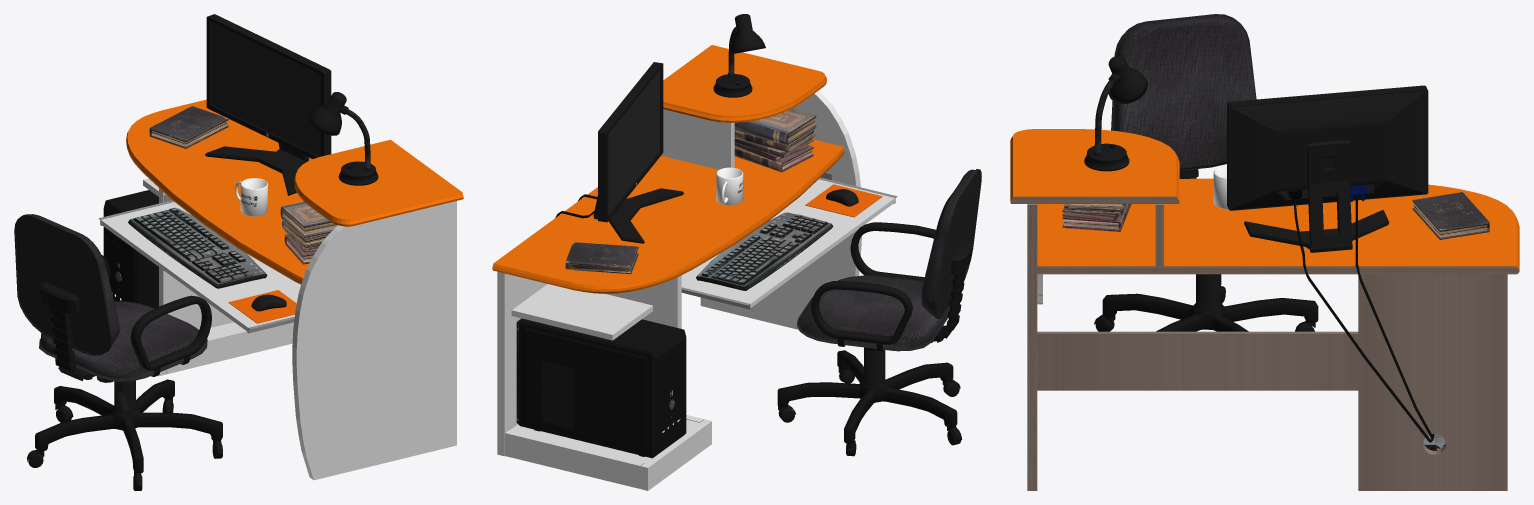
3 renders of one model, left to right at view 1: azimuth 30°, elevation 25°; view 2: azimuth 150°, elevation 25°; view 3: azimuth 270°, elevation 25°, orthographic. The views are drawn at different scales.
Visible parts, largest first — view 1: Support table_11, Main board_13, Monitor_33, Backrest plastic_46, Cap_21, Base_38, Keyboard_37, Keyboard support_32, Seat_45, Case_35, Leg.003_14, Armrest.001_51 (+12 smaller); view 2: Main board_13, Case_35, Cap_21, Monitor_33, Support table_11, Seat_45, Base_38, Keyboard_37, Keyboard support_32, Guard object_20, Leg.002_15, Rear table_18 (+20 smaller); view 3: Rear table_18, Main board_13, Monitor_33, Rear table.001_22, Backrest_47, Cap_21, Support Monitor_34, Base_38, Support table_11, Book 2_0, iluminator table lamp_8, base table lamp_6 (+7 smaller).
Part boxes in pixels (bbox=[...]): Support table_11: bbox=[292, 201, 456, 480]; Main board_13: bbox=[126, 99, 312, 284]; Monitor_33: bbox=[206, 14, 331, 158]; Backrest plastic_46: bbox=[14, 214, 112, 355]; Cap_21: bbox=[294, 139, 463, 226]; Base_38: bbox=[35, 379, 222, 473]; Keyboard_37: bbox=[128, 208, 267, 288]; Keyboard support_32: bbox=[101, 202, 300, 331]; Seat_45: bbox=[40, 301, 205, 378]; Case_35: bbox=[103, 190, 158, 308]; Leg.003_14: bbox=[166, 322, 293, 374]; Armrest.001_51: bbox=[130, 295, 211, 376]; Main board_13: bbox=[492, 139, 844, 293]; Case_35: bbox=[516, 318, 686, 458]; Cap_21: bbox=[663, 45, 826, 122]; Monitor_33: bbox=[598, 62, 663, 222]; Support table_11: bbox=[700, 90, 861, 329]; Seat_45: bbox=[798, 275, 950, 348]; Base_38: bbox=[777, 347, 957, 443]; Keyboard_37: bbox=[696, 212, 833, 290]; Keyboard support_32: bbox=[681, 179, 895, 307]; Guard object_20: bbox=[511, 284, 652, 340]; Leg.002_15: bbox=[505, 430, 644, 488]; Rear table_18: bbox=[497, 271, 546, 456]; Rear table_18: bbox=[1358, 274, 1507, 490]; Main board_13: bbox=[1036, 178, 1519, 274]; Monitor_33: bbox=[1227, 85, 1428, 210]; Rear table.001_22: bbox=[1037, 331, 1358, 390]; Backrest_47: bbox=[1113, 16, 1255, 170]; Cap_21: bbox=[1010, 129, 1179, 203]; Support Monitor_34: bbox=[1244, 140, 1389, 252]; Base_38: bbox=[1102, 274, 1318, 331]; Support table_11: bbox=[1027, 204, 1037, 490]; Book 2_0: bbox=[1412, 192, 1489, 239]; iluminator table lamp_8: bbox=[1108, 55, 1147, 103]; base table lamp_6: bbox=[1084, 143, 1129, 171].
Bounding box in the file's own units: 6.42 × 5.96 × 7.06.
Materials: 28 (10 with a texture image).
